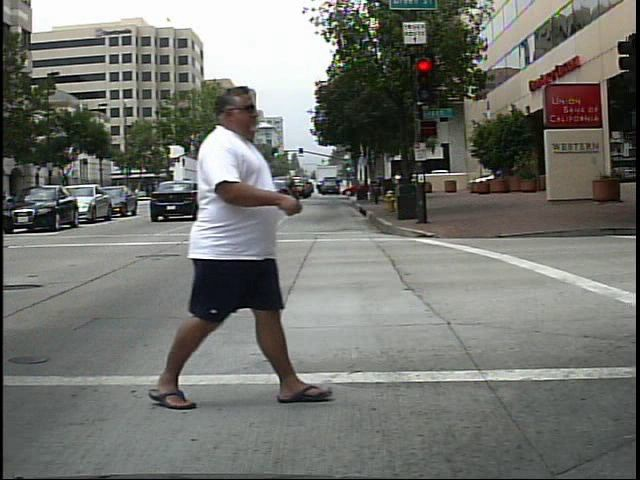person: (152, 77, 322, 413)
